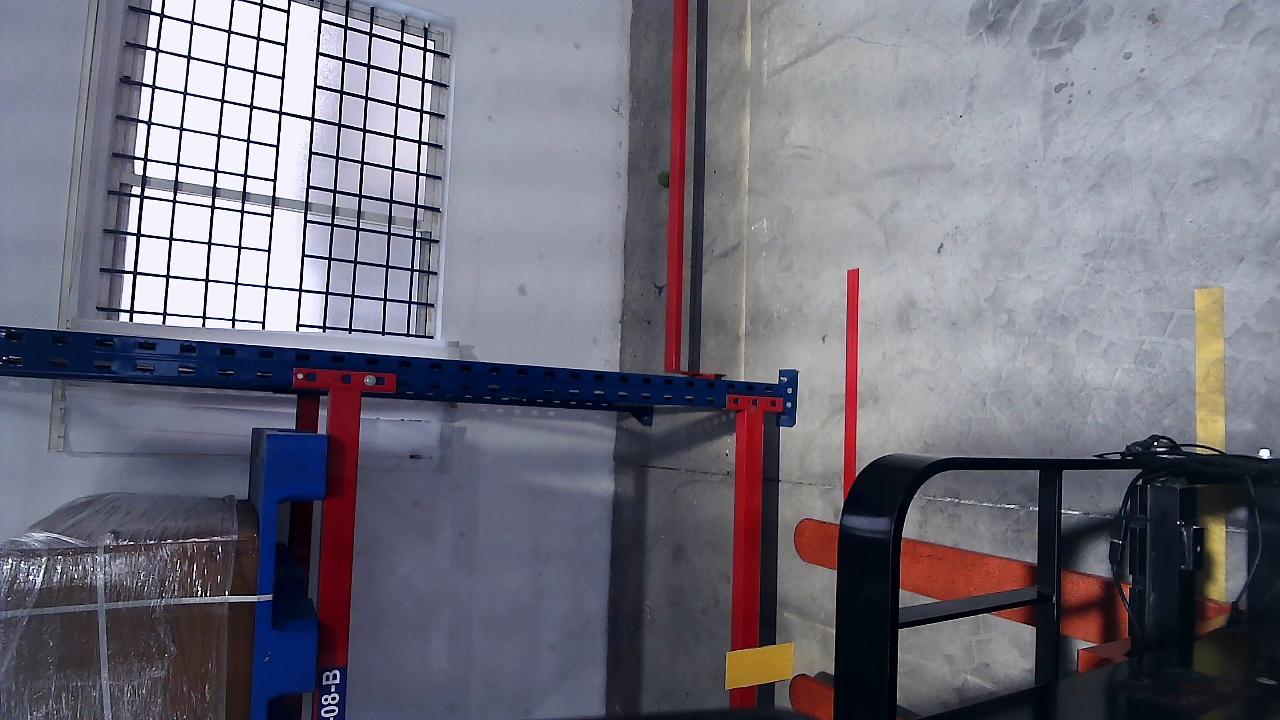h_rack: (312, 389, 363, 719), (731, 409, 768, 711)
orange_strip: (725, 642, 795, 689)
red_line: (842, 267, 862, 500)
small_pallet: (248, 435, 329, 718)
yellow_line: (1194, 286, 1225, 453)
